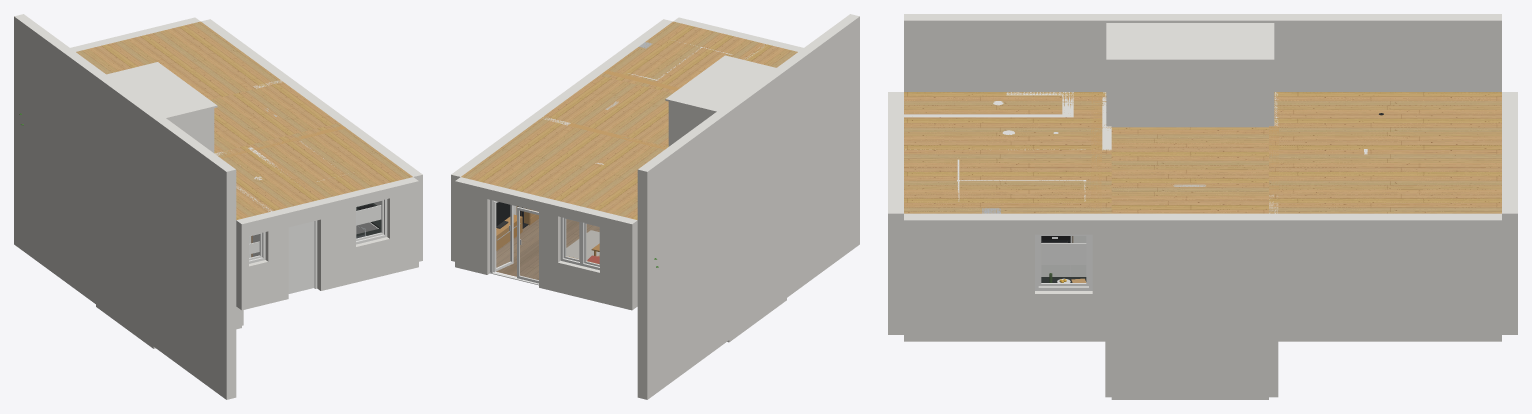
The model's file is erdgeschoss_AR_mit_decke.glb.
3 views of the same model, side by side, from view 1: azimuth 30°, elevation 25°; view 2: azimuth 150°, elevation 25°; view 3: azimuth 270°, elevation 25° (orthographic). The views are drawn at different scales.
Parts seen in each view (by area): view 1: G177, G175, G185, G180, G183, G176; view 2: G177, G175, G180, G172, G176, G42, G43; view 3: G177, G175, G180, G176, G183, G278.
Part boxes in pixels (<box>): G177: <box>14,14,422,399</box>; G175: <box>76,21,412,219</box>; G185: <box>288,221,314,293</box>; G180: <box>249,199,387,288</box>; G183: <box>249,205,381,254</box>; G176: <box>210,99,346,158</box>; G177: <box>451,14,859,399</box>; G175: <box>461,21,797,219</box>; G180: <box>490,200,599,285</box>; G172: <box>496,219,599,279</box>; G176: <box>568,70,679,149</box>; G42: <box>566,230,599,260</box>; G43: <box>496,214,599,251</box>; G177: <box>888,14,1517,399</box>; G175: <box>904,92,1501,213</box>; G180: <box>1035,234,1092,290</box>; G176: <box>1091,92,1278,213</box>; G183: <box>1041,243,1086,264</box>; G278: <box>1041,236,1086,276</box>.
Size of the model in its own units: 6.16 by 6.82 by 12.
303 materials, 20 textured.
